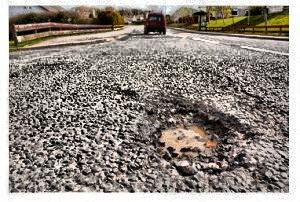pothole: (143, 93, 244, 178)
